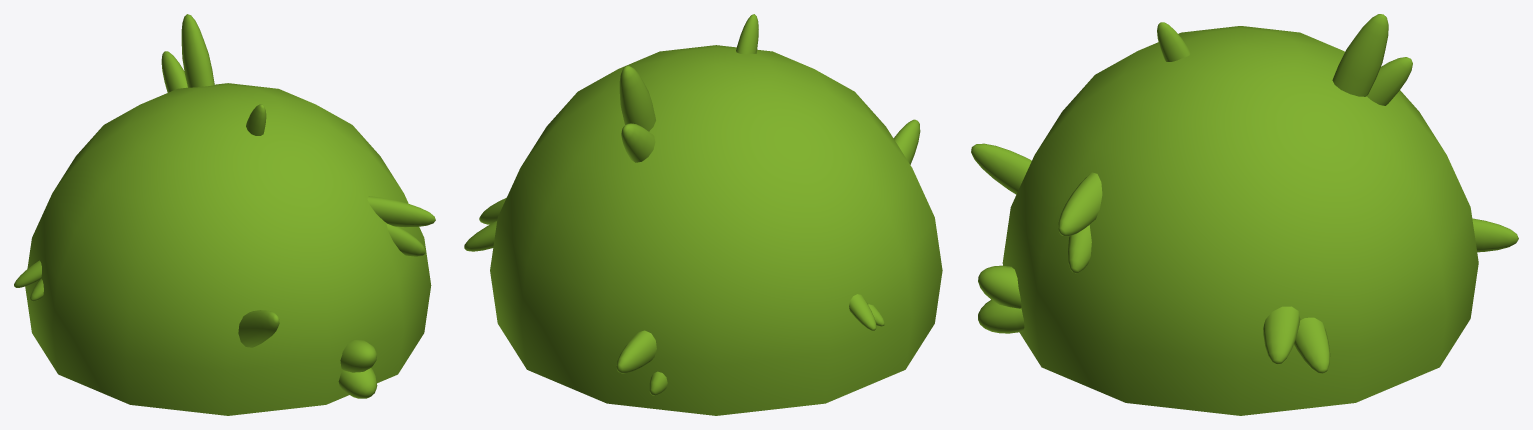
Rendered from Bush.fbx.
3 views of the same model, side by side, from view 1: azimuth 30°, elevation 25°; view 2: azimuth 150°, elevation 25°; view 3: azimuth 270°, elevation 25° (orthographic). The views are drawn at different scales.
Visible parts, largest first — view 1: Cespuglio, Foglie; view 2: Cespuglio, Foglie; view 3: Cespuglio, Foglie.
Part boxes in pixels (bbox=[...]): Cespuglio: bbox=[25, 83, 431, 415]; Foglie: bbox=[14, 14, 435, 398]; Cespuglio: bbox=[490, 45, 942, 415]; Foglie: bbox=[464, 14, 920, 395]; Cespuglio: bbox=[1002, 26, 1478, 415]; Foglie: bbox=[971, 14, 1518, 373].
Bounding box in the file's own units: 76.26 × 52.51 × 82.51.
